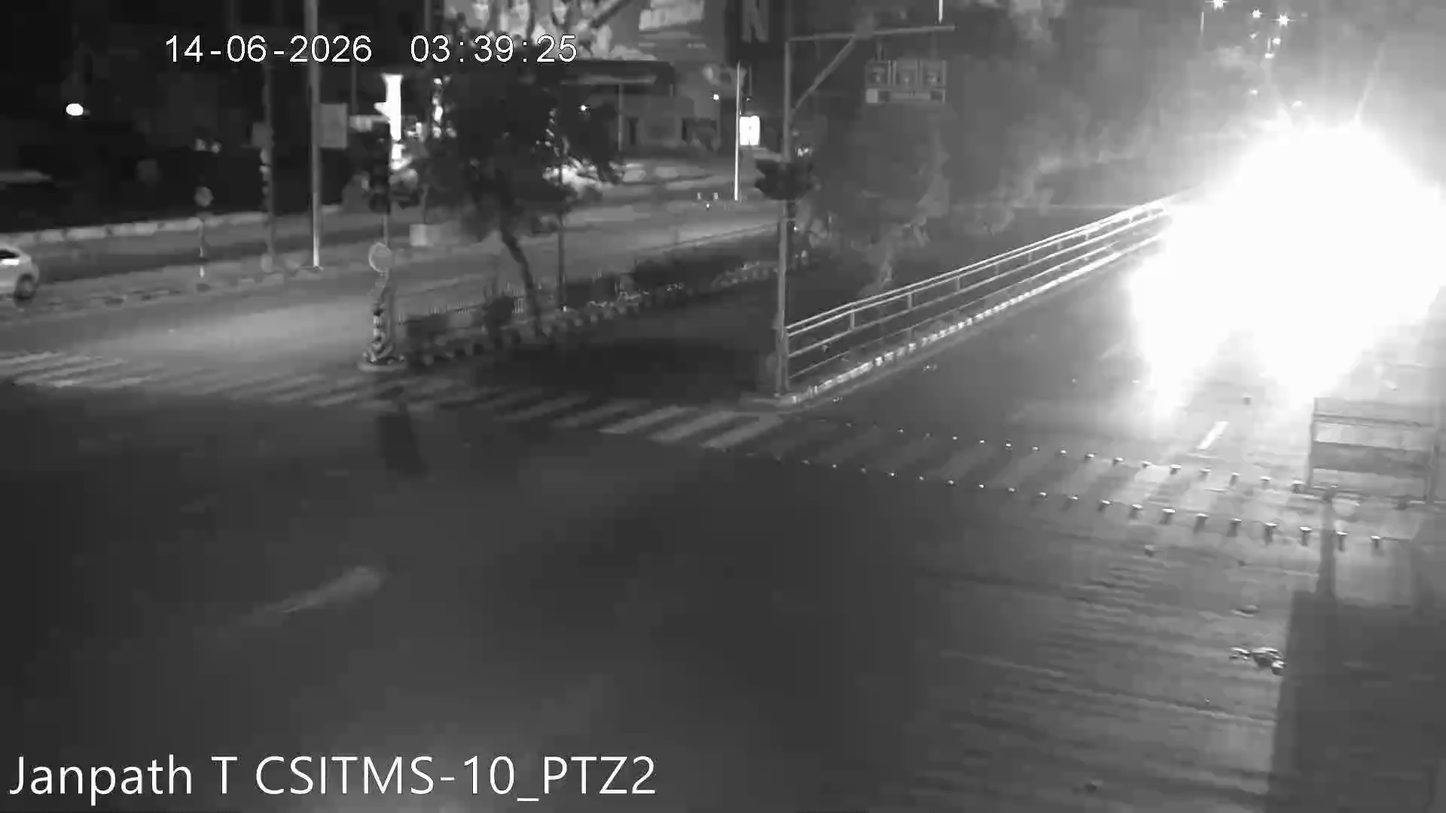car: (0, 231, 45, 316)
